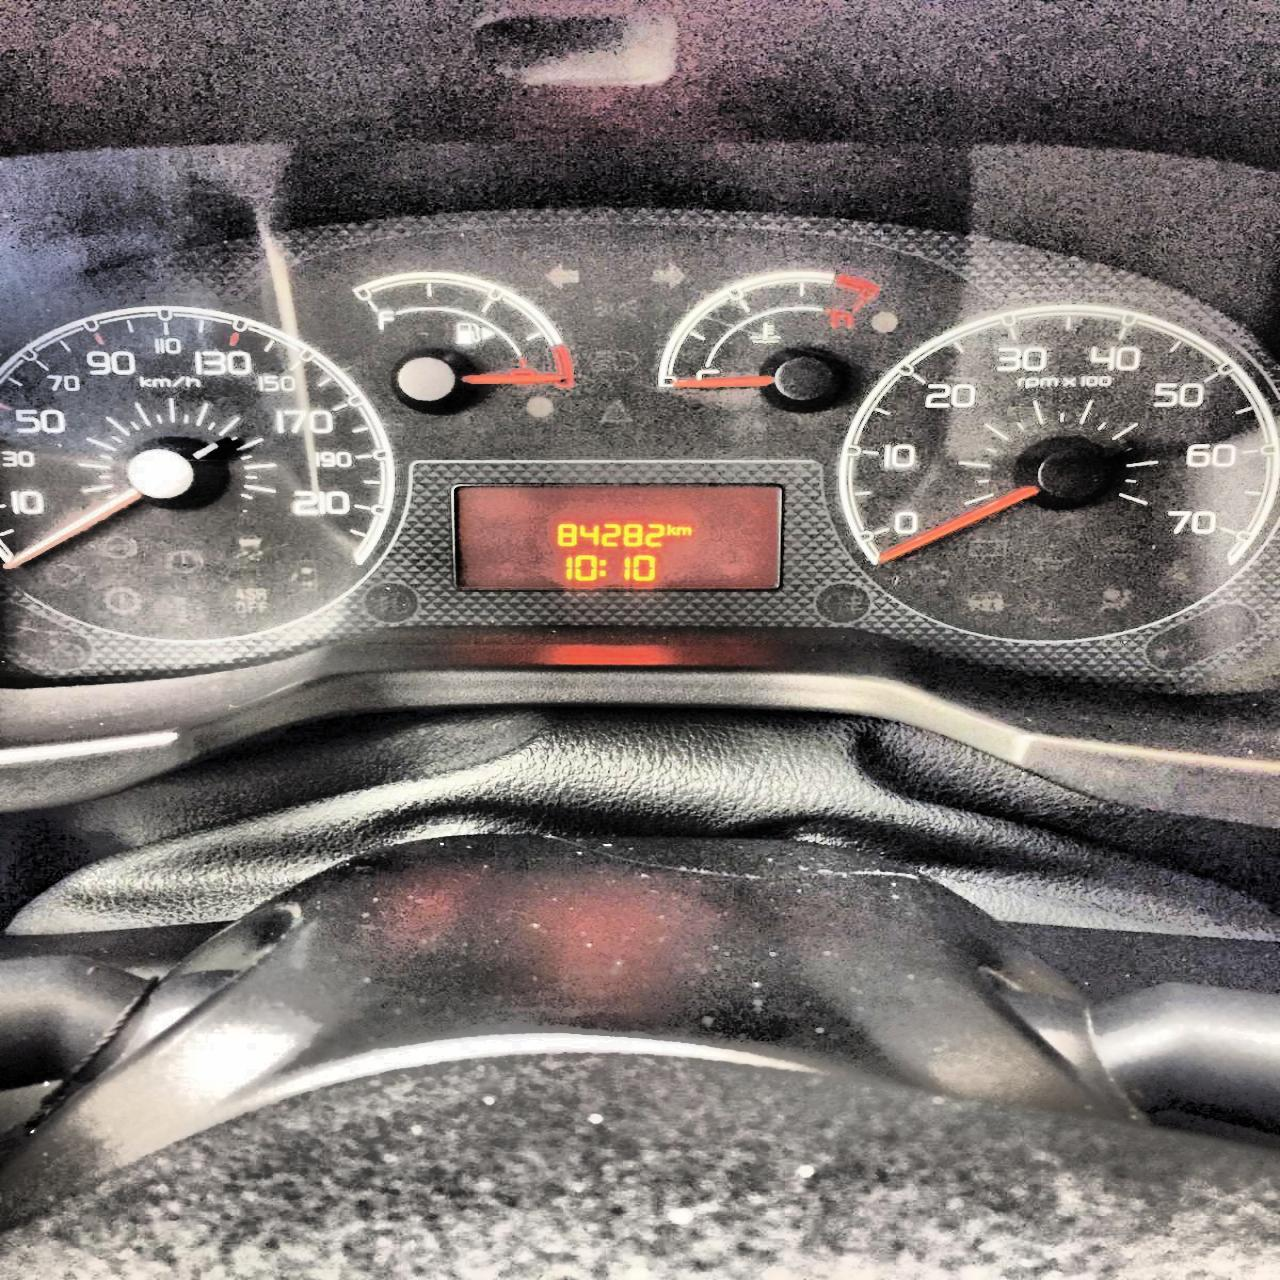0: (573, 552, 598, 581), (632, 552, 655, 581)
1: (561, 553, 573, 580), (621, 554, 631, 581)
2: (600, 522, 620, 549), (645, 522, 663, 549)
4: (577, 522, 600, 545)
8: (621, 520, 644, 549), (554, 522, 577, 547)
X: (676, 524, 694, 538), (665, 522, 678, 536), (598, 558, 606, 577)
odometer: (449, 482, 787, 597)
